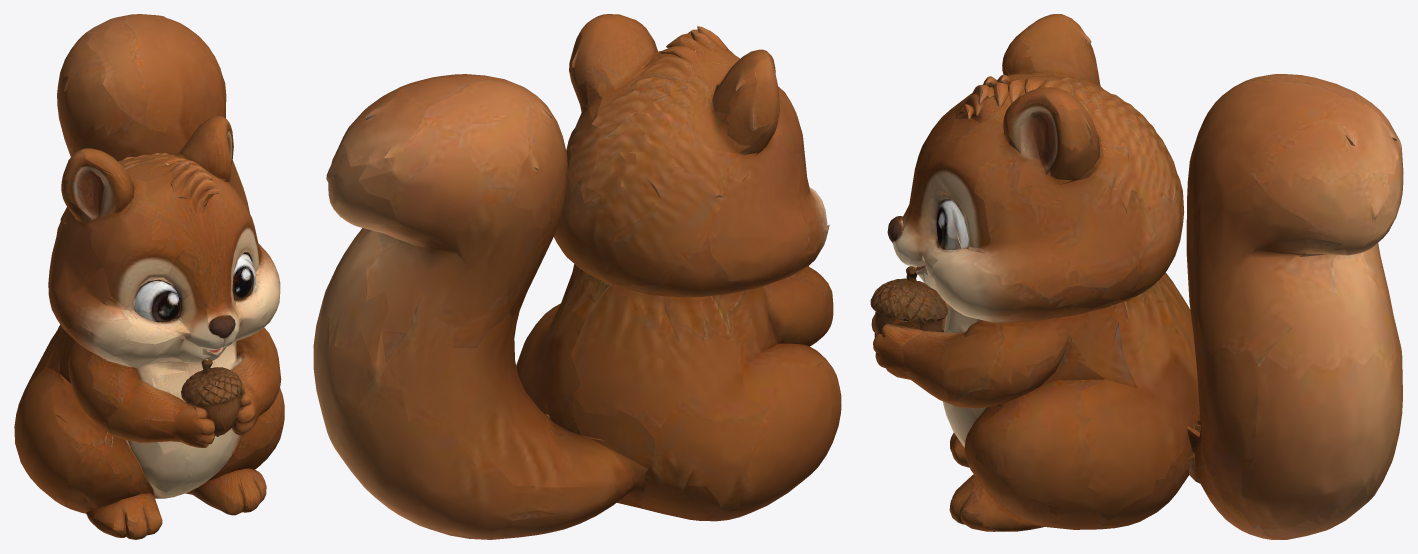
3 views of the same model, side by side, from view 1: azimuth 30°, elevation 25°; view 2: azimuth 150°, elevation 25°; view 3: azimuth 270°, elevation 25° (orthographic). The views are drawn at different scales.
Visible parts, largest first — view 1: output_unwrapped; view 2: output_unwrapped; view 3: output_unwrapped.
Part boxes in pixels (x1,y1,x2,y2): output_unwrapped: (14, 14, 284, 539); output_unwrapped: (313, 14, 841, 539); output_unwrapped: (870, 14, 1403, 539).
Size of the model in its own units: 1.53 by 1.79 by 1.9.
Materials: 1 (1 with a texture image).
